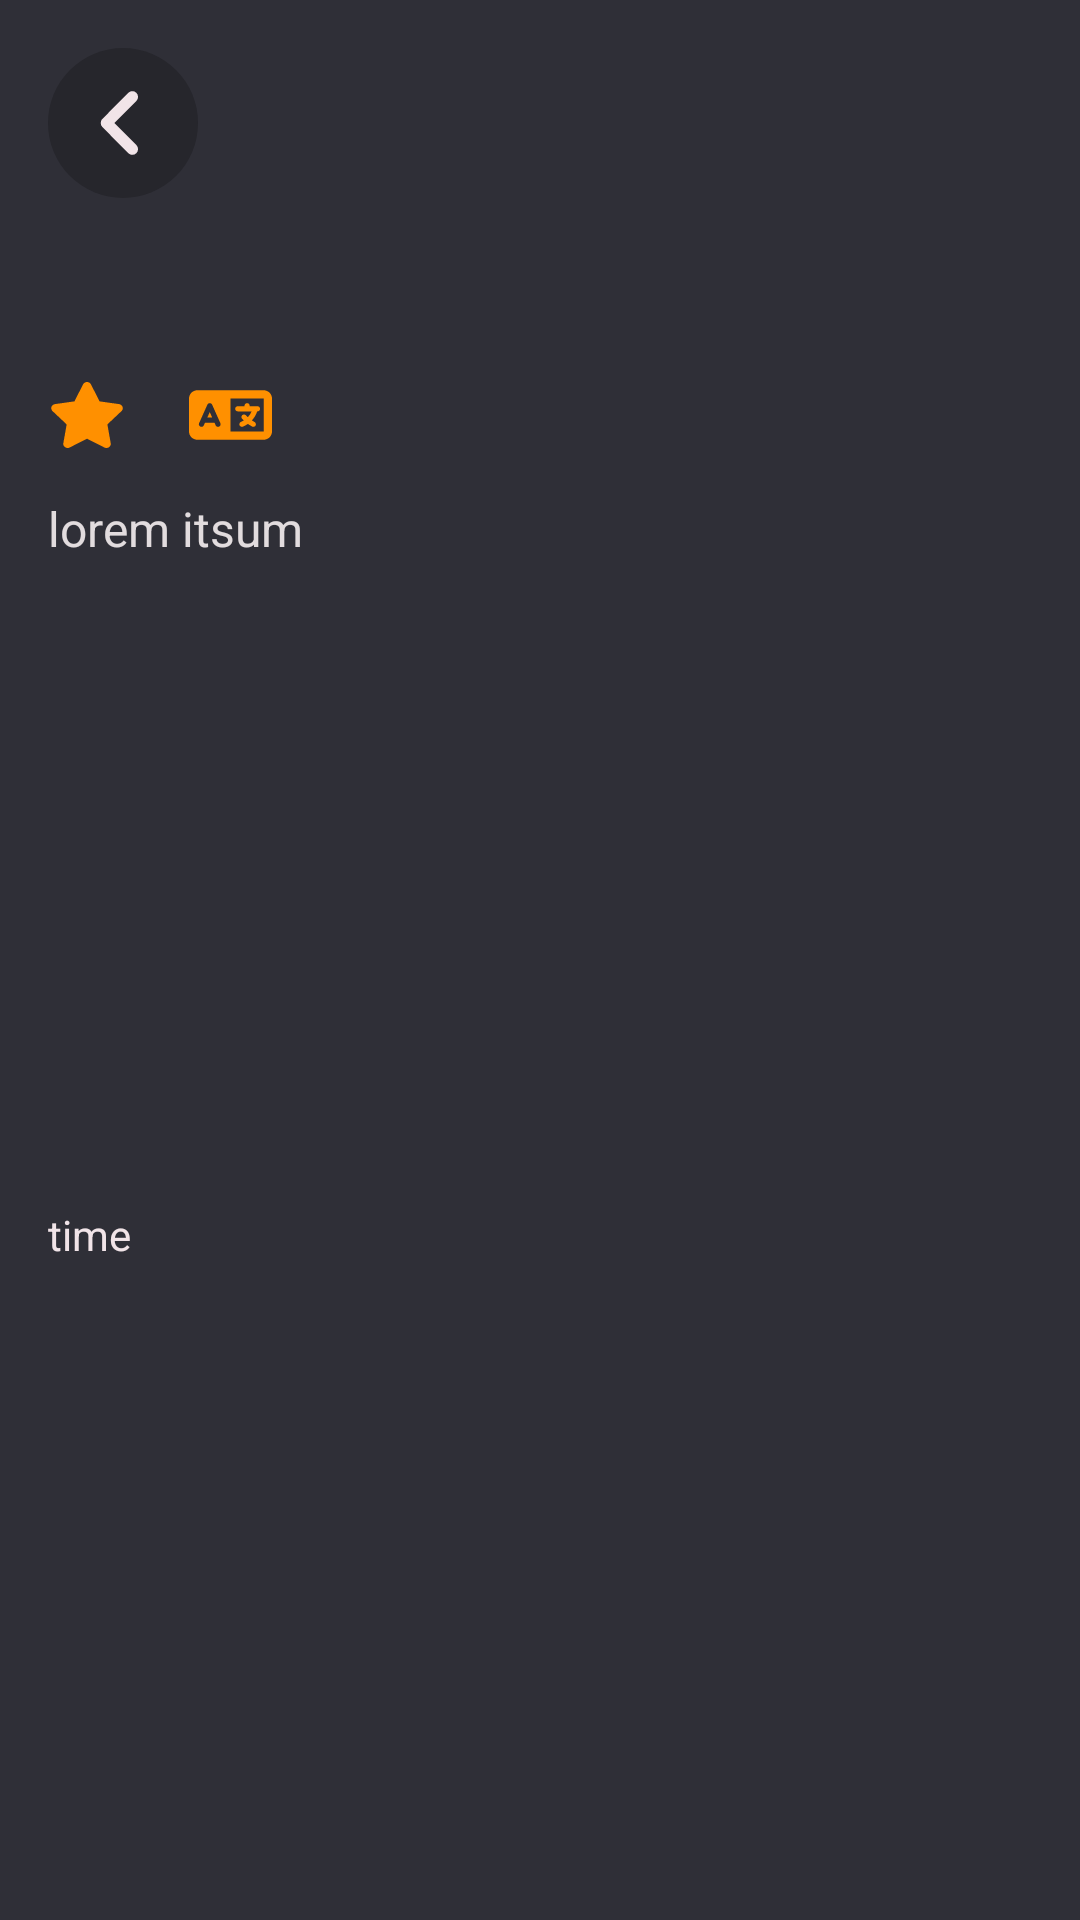

Screen size 1080w x 1920h. Icon name, then its center in pixels as [x,y]:
back: [123,123]
